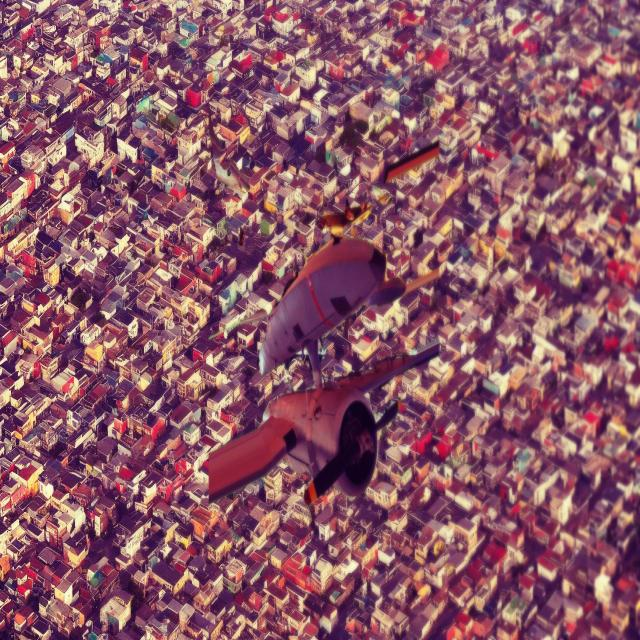airplane: (210, 235, 439, 509)
